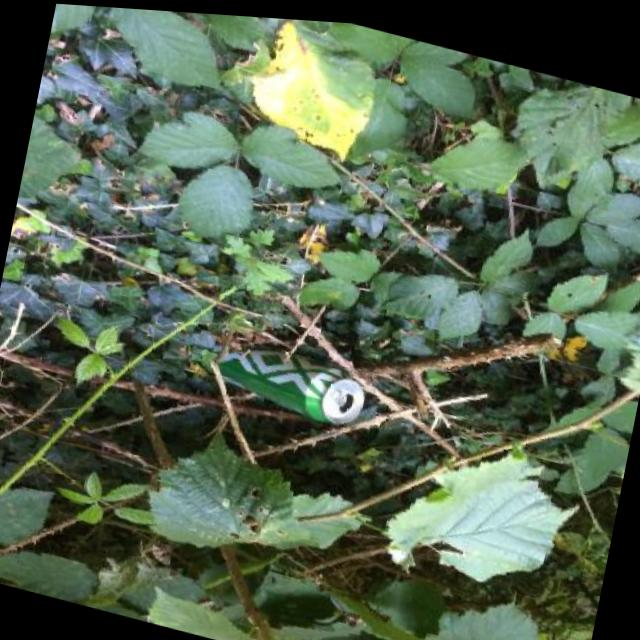metal: (190, 329, 370, 434)
